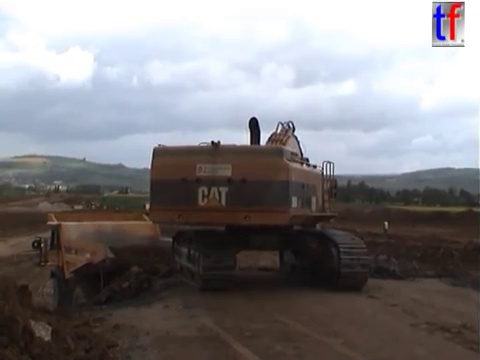excavator: (144, 114, 374, 294), (76, 198, 102, 214)
truck: (31, 208, 220, 313), (43, 189, 53, 199), (57, 192, 67, 200)
worker: (380, 217, 392, 237)
